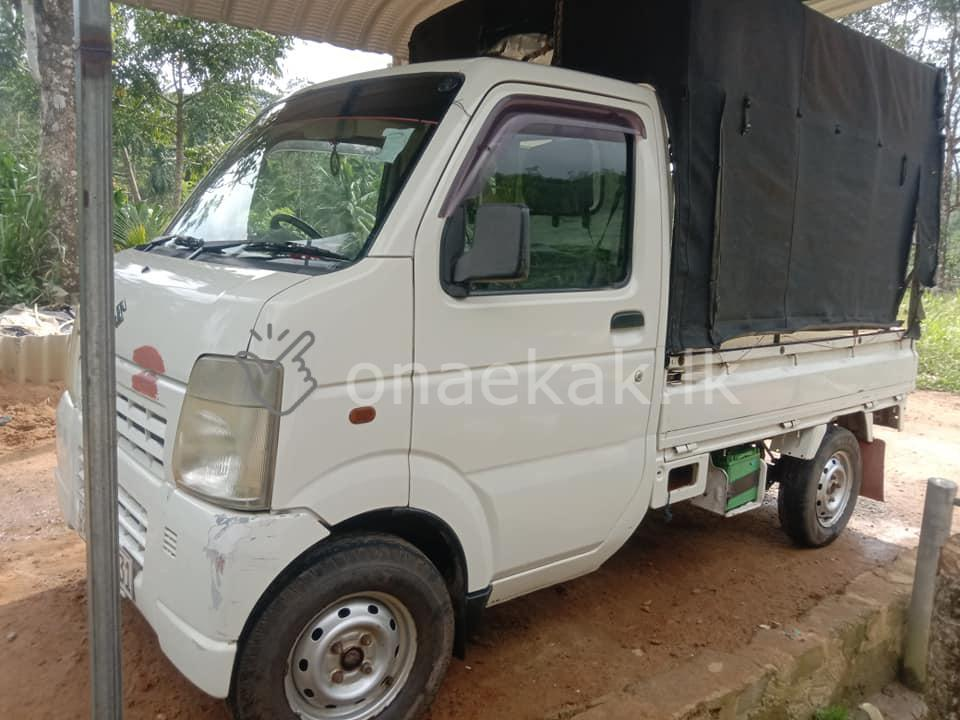truck: (54, 1, 947, 720)
